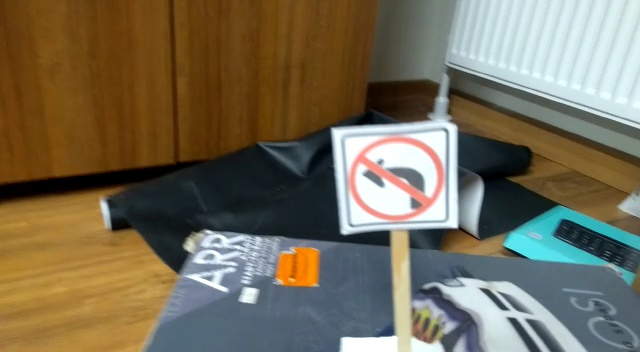sola_donulmez: (347, 134, 447, 229)
